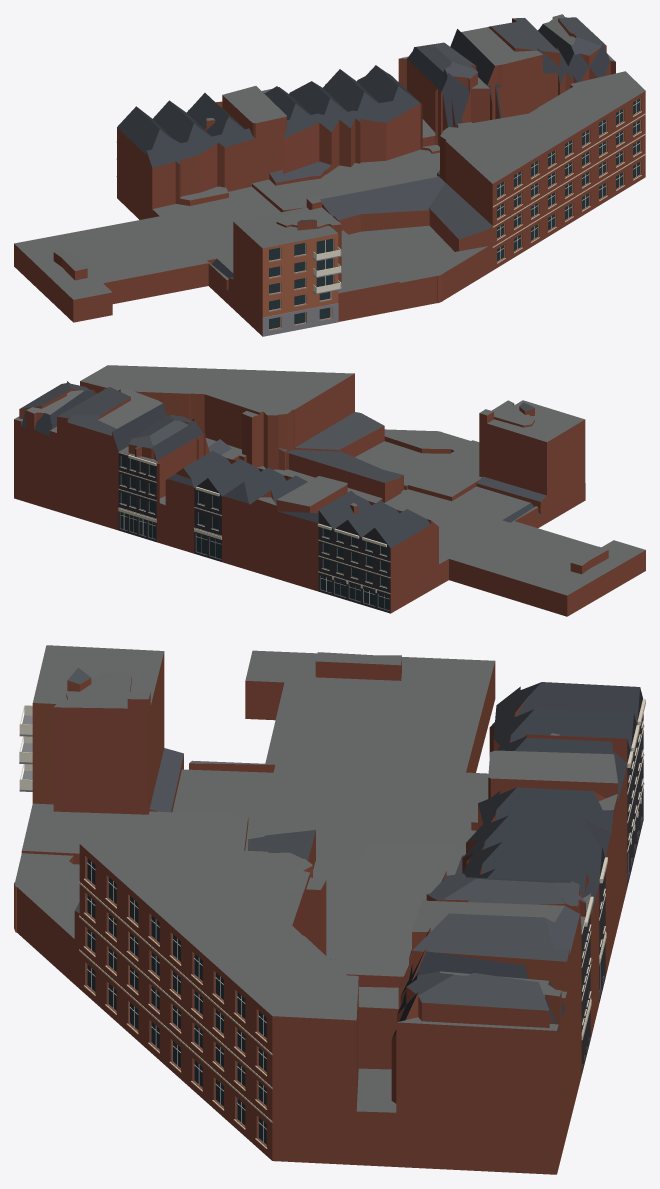
Rendered from recipe-large-stadhouderskade-111-137448.glb.
3 views of the same model, one above another, from view 1: azimuth 30°, elevation 25°; view 2: azimuth 150°, elevation 25°; view 3: azimuth 270°, elevation 25° (orthographic). The views are drawn at different scales.
Visible parts, largest first — view 1: stadhouderskade-111-137448; view 2: stadhouderskade-111-137448; view 3: stadhouderskade-111-137448.
Boxes of the visible parts, x1,y1,x2,y2 form: stadhouderskade-111-137448: (14, 14, 645, 336); stadhouderskade-111-137448: (14, 365, 645, 616); stadhouderskade-111-137448: (14, 645, 645, 1174).
Bounding box in the file's own units: 106 × 18.67 × 58.02.
